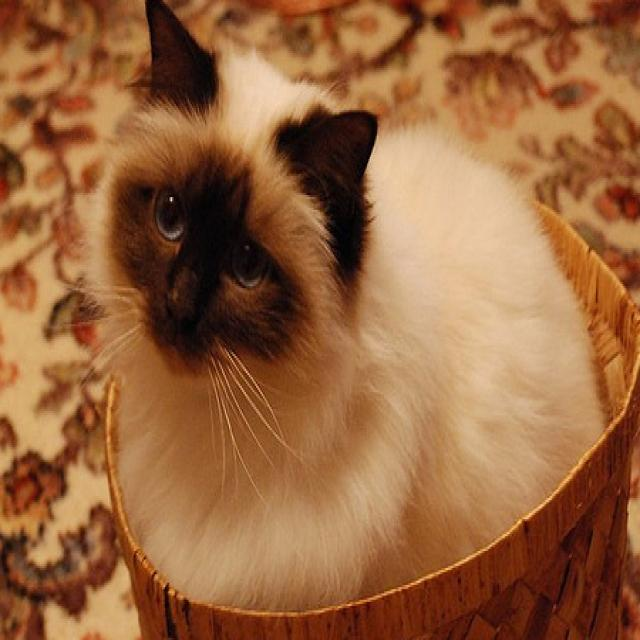Birman: (98, 0, 606, 621)
